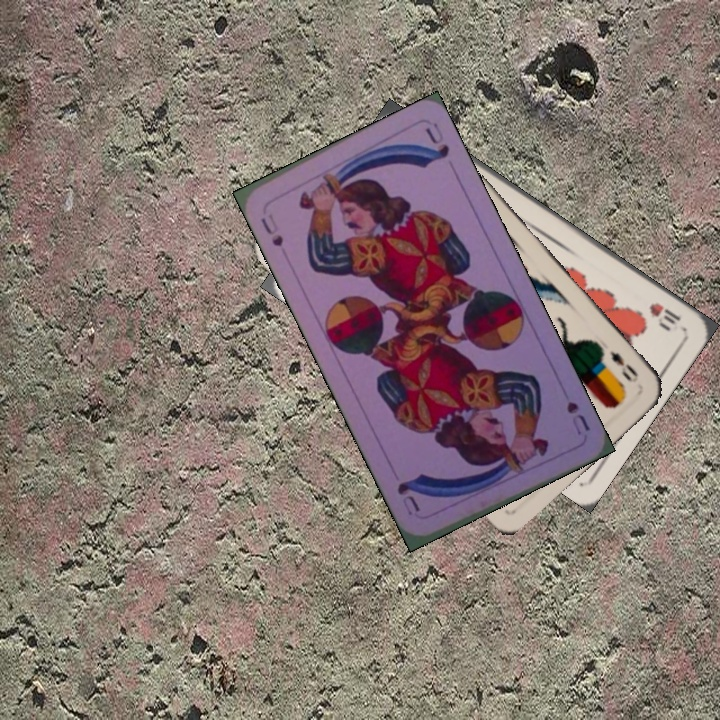EO: (605, 346, 642, 386)
H10: (645, 298, 683, 332)
SU: (562, 397, 593, 437), (256, 209, 286, 249)
